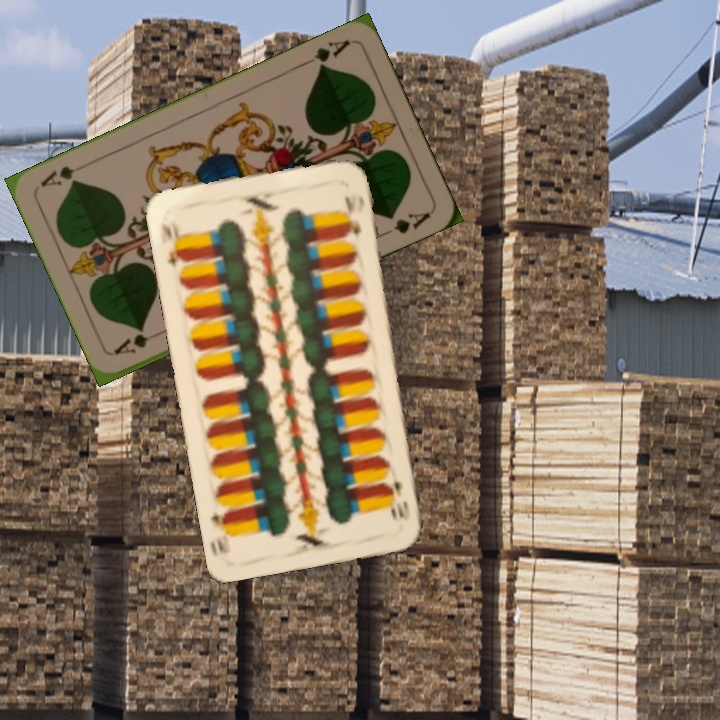E10: (157, 219, 188, 270), (388, 476, 413, 523)
GA: (298, 35, 353, 72), (110, 326, 167, 357)
